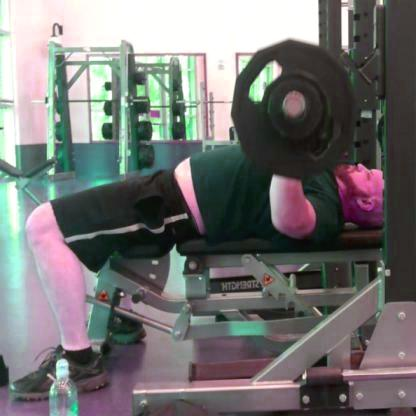Barbell: (278, 90, 309, 121)
